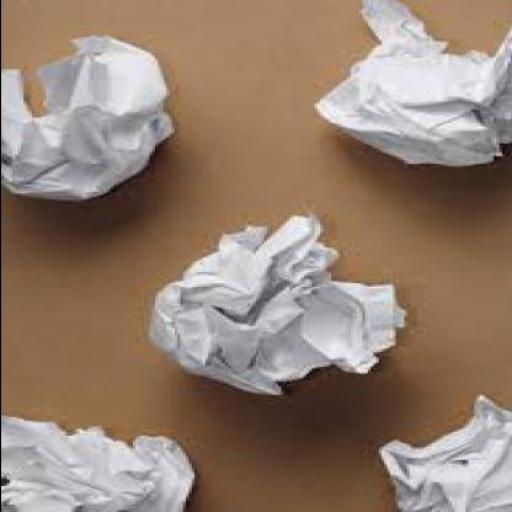paper: (143, 216, 411, 401), (310, 2, 510, 172), (1, 32, 176, 212), (1, 414, 193, 510), (374, 396, 510, 511)
